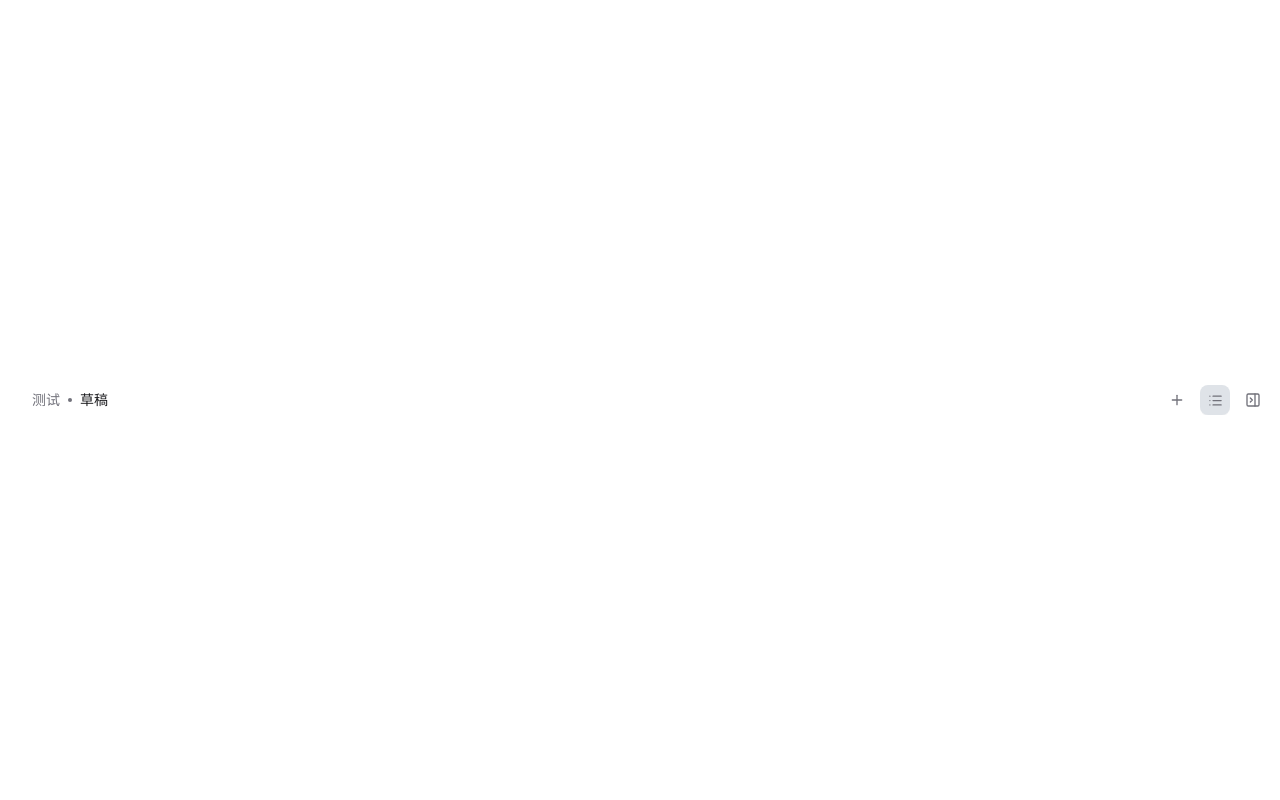
Test: WorkspaceTitlebar › hides protected Draft workspace and Memory mutation actions
Click the button with aria-label "测试 记忆空间操作". click: (46, 400)
box: [28,385,64,415]
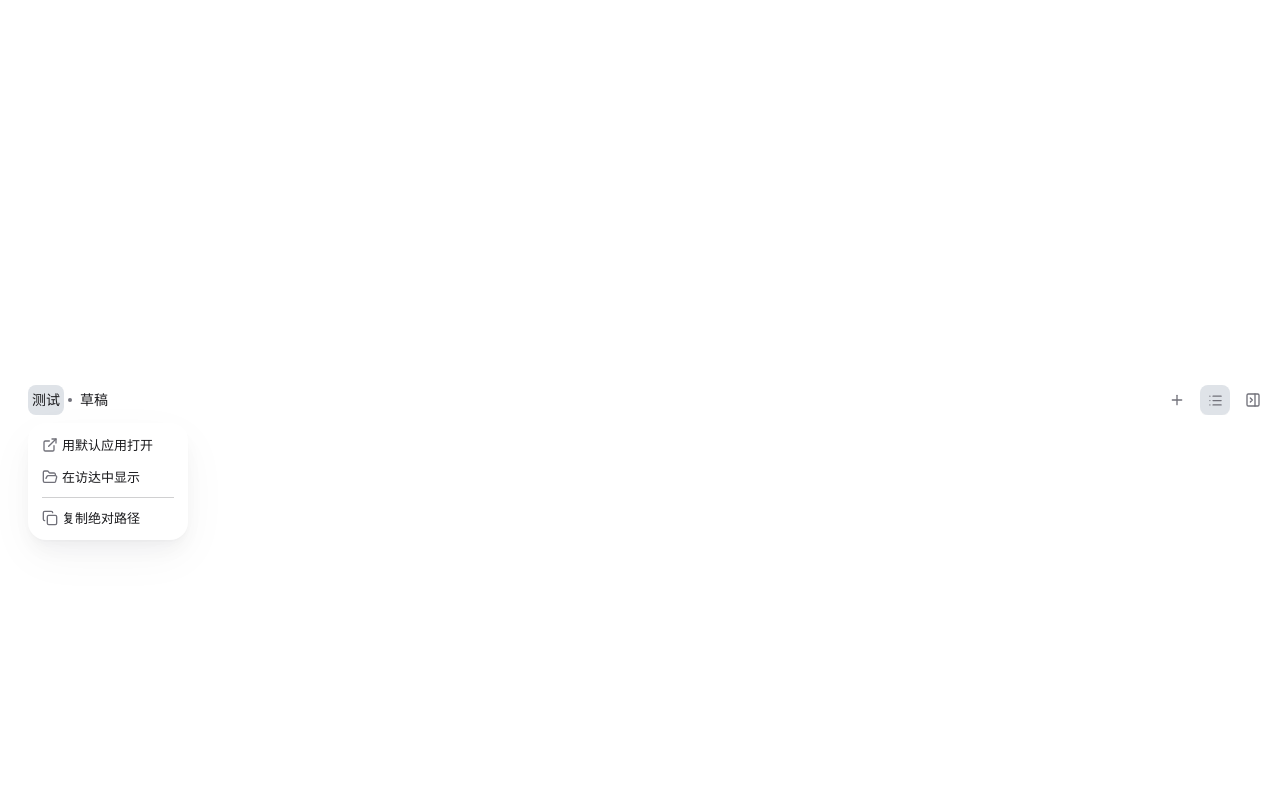
Result: the menu item "用默认应用打开" is shown at [42,436,153,453]
Click the element showing "测试 草稿 用默认应用打开 在访达中显示 复制绝对路径". click: (640, 400)
box: [0,0,1279,799]
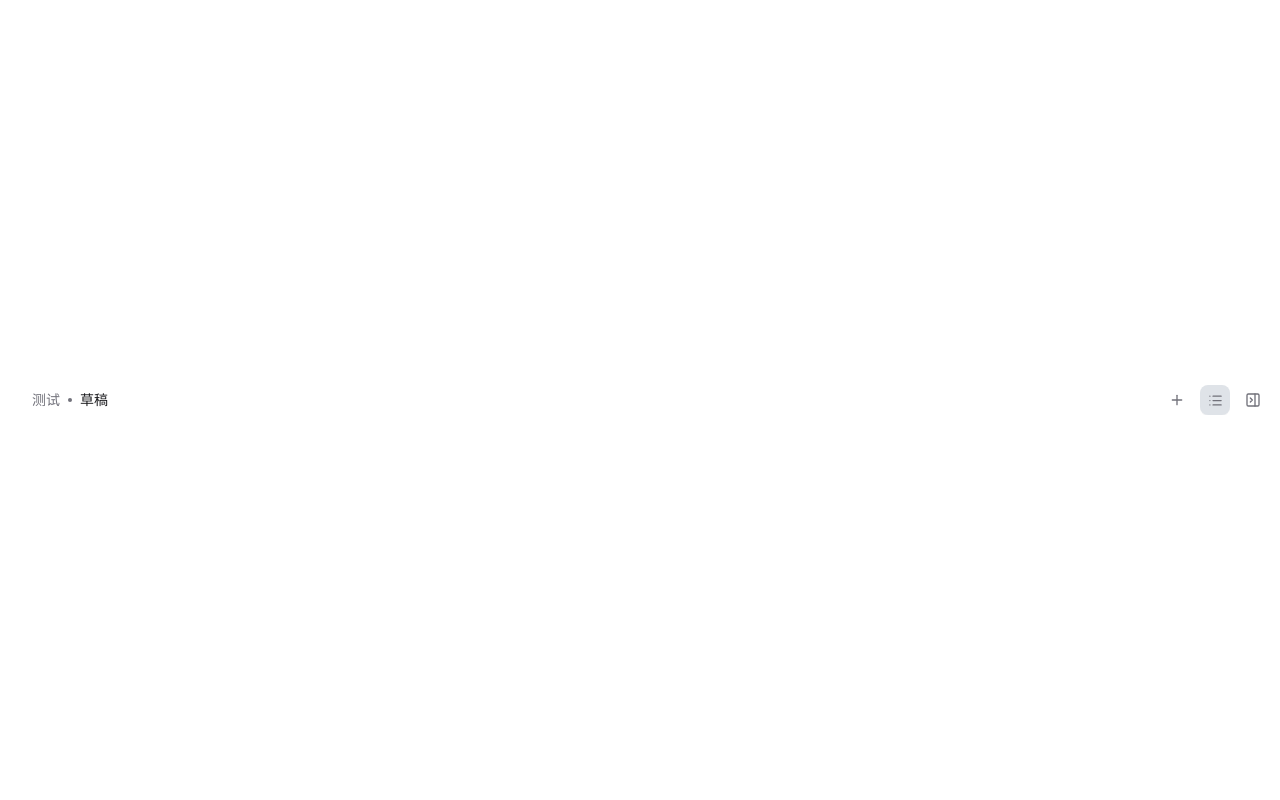
Click the button with aria-label "草稿 记忆操作". click: (94, 400)
box: [76,385,112,415]
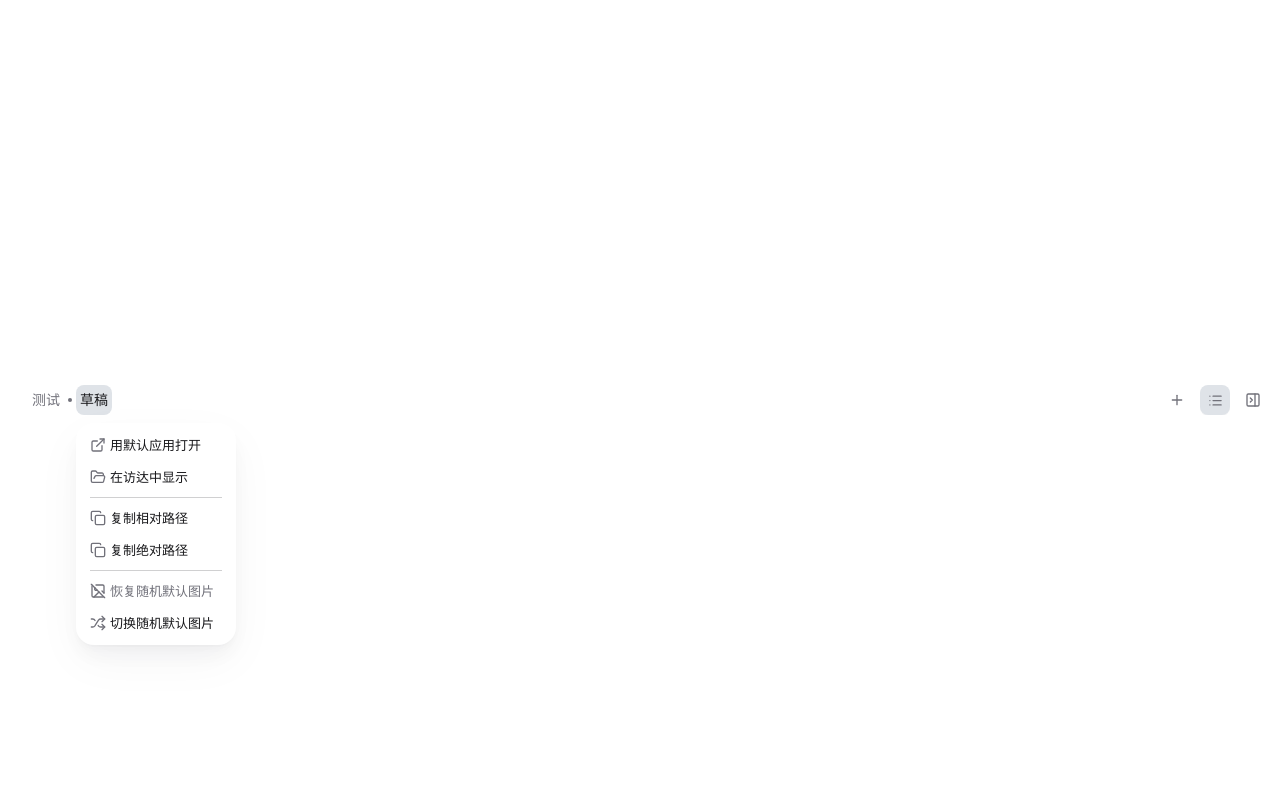
Result: the menu item "用默认应用打开" is shown at [90,436,201,453]
